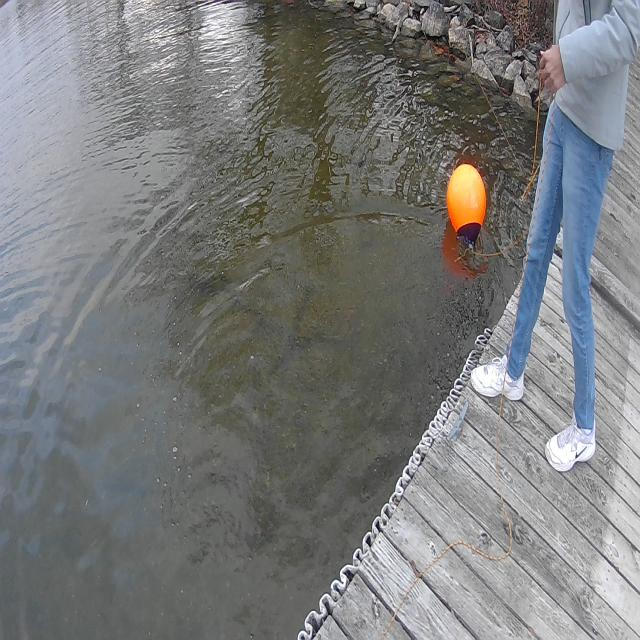Buoy: (440, 152, 490, 262)
